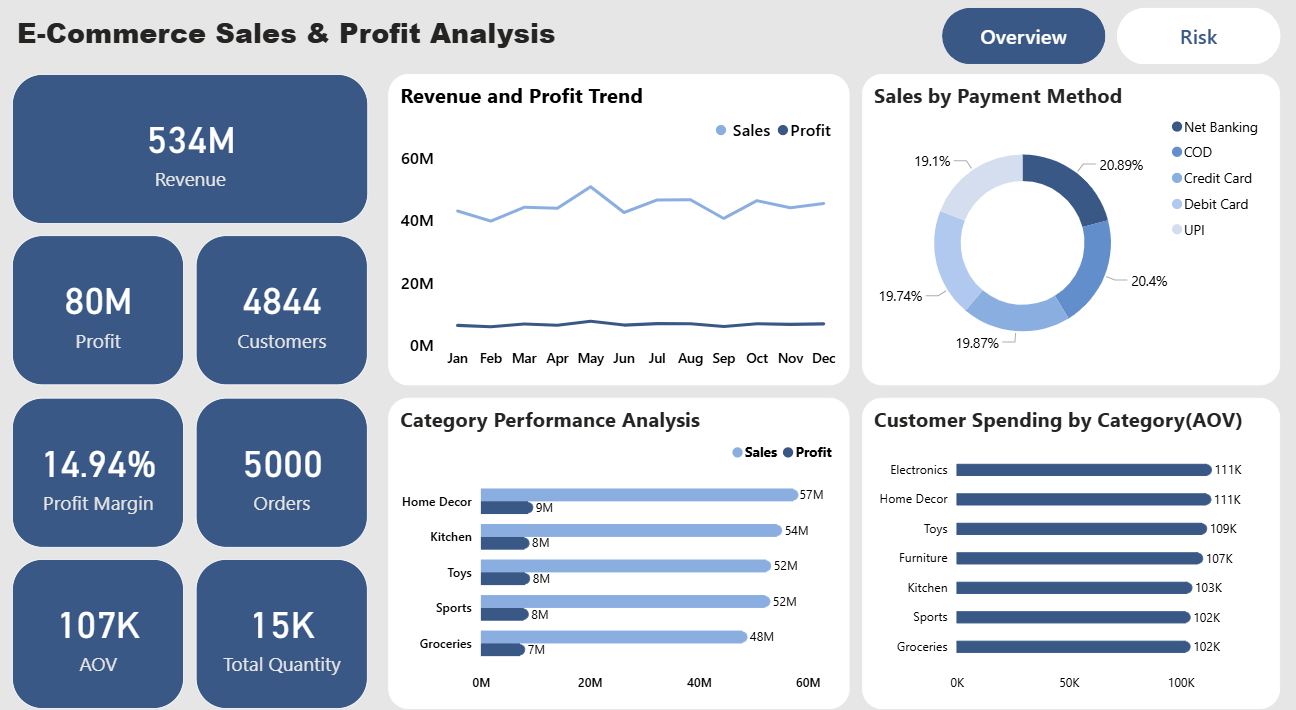

The page's visual inventory and layout, read from the dashboard file:
{"tool":"powerbi","page":{"name":"Overview","canvas":[1280,720],"ordinal":0},"visuals":[{"type":"lineChart","title":" Revenue and Profit Trend","fields":{"Y":["ecommerce_sales.Total Sales","ecommerce_sales.Total Profit"],"Category":["ecommerce_sales.Month_Short"]},"box":[388.5,78.4,452.4,305.2],"z":0},{"type":"donutChart","title":"Sales by Payment Method","fields":{"Category":["ecommerce_sales.Payment_Mode"],"Y":["ecommerce_sales.Total Sales"]},"box":[854.2,78.4,410.2,305.2],"z":1000},{"type":"clusteredBarChart","title":"Category Performance Analysis","fields":{"Category":["ecommerce_sales.Category"],"Y":["ecommerce_sales.Total Sales","ecommerce_sales.Total Profit"]},"box":[388.5,396.9,452.4,305.2],"z":2000},{"type":"clusteredBarChart","title":"Customer Spending by Category(AOV)","fields":{"Category":["ecommerce_sales.Category"],"Y":["ecommerce_sales.Average Order Value"]},"box":[854.2,396.9,410.2,305.2],"z":3000},{"type":"textbox","box":[19.3,13.3,546.5,55.5],"z":4000},{"type":"card","fields":{"Values":["ecommerce_sales.Total Sales"]},"box":[19.3,78.4,349.9,147],"z":5000},{"type":"card","fields":{"Values":["ecommerce_sales.Profit Margin"]},"box":[19.3,396.9,168.9,147.2],"z":6000},{"type":"card","fields":{"Values":["ecommerce_sales.Total Profit"]},"box":[19.3,236.5,168.9,147.2],"z":7000},{"type":"card","fields":{"Values":["ecommerce_sales.Total Orders"]},"box":[200.3,396.9,168.9,147.2],"z":8000},{"type":"card","fields":{"Values":["ecommerce_sales.Average Order Value"]},"box":[19.3,555,168.9,147.2],"z":9000},{"type":"card","fields":{"Values":["ecommerce_sales.Total Customers"]},"box":[200.3,236.5,168.9,147.2],"z":10000},{"type":"card","fields":{"Values":["ecommerce_sales.Total Quantity"]},"box":[200.3,555,168.9,147.2],"z":11000},{"type":"shape","box":[1103.9,13.3,160.5,55.5],"z":12000},{"type":"shape","box":[932.6,13.3,160.5,55.5],"z":13000}]}

Visuals, with their boxes in screenshot pixels (x1, y1, x2, y2), scaled from the page's 1280x720 canvas onto the 1296x710 screenshot:
" Revenue and Profit Trend" lineChart: 393:77:851:378
"Sales by Payment Method" donutChart: 865:77:1280:378
"Category Performance Analysis" clusteredBarChart: 393:391:851:692
"Customer Spending by Category(AOV)" clusteredBarChart: 865:391:1280:692
textbox: 20:13:573:68
card - ecommerce_sales.Total Sales: 20:77:374:222
card - ecommerce_sales.Profit Margin: 20:391:191:537
card - ecommerce_sales.Total Profit: 20:233:191:378
card - ecommerce_sales.Total Orders: 203:391:374:537
card - ecommerce_sales.Average Order Value: 20:547:191:692
card - ecommerce_sales.Total Customers: 203:233:374:378
card - ecommerce_sales.Total Quantity: 203:547:374:692
shape: 1118:13:1280:68
shape: 944:13:1107:68
